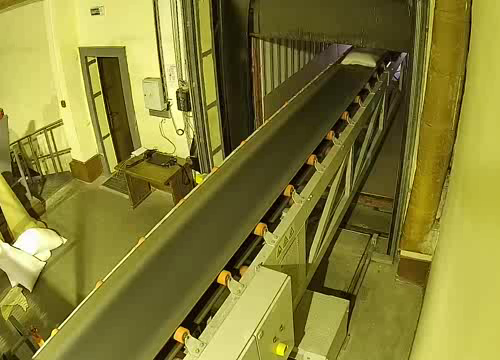bag: (337, 43, 390, 68)
